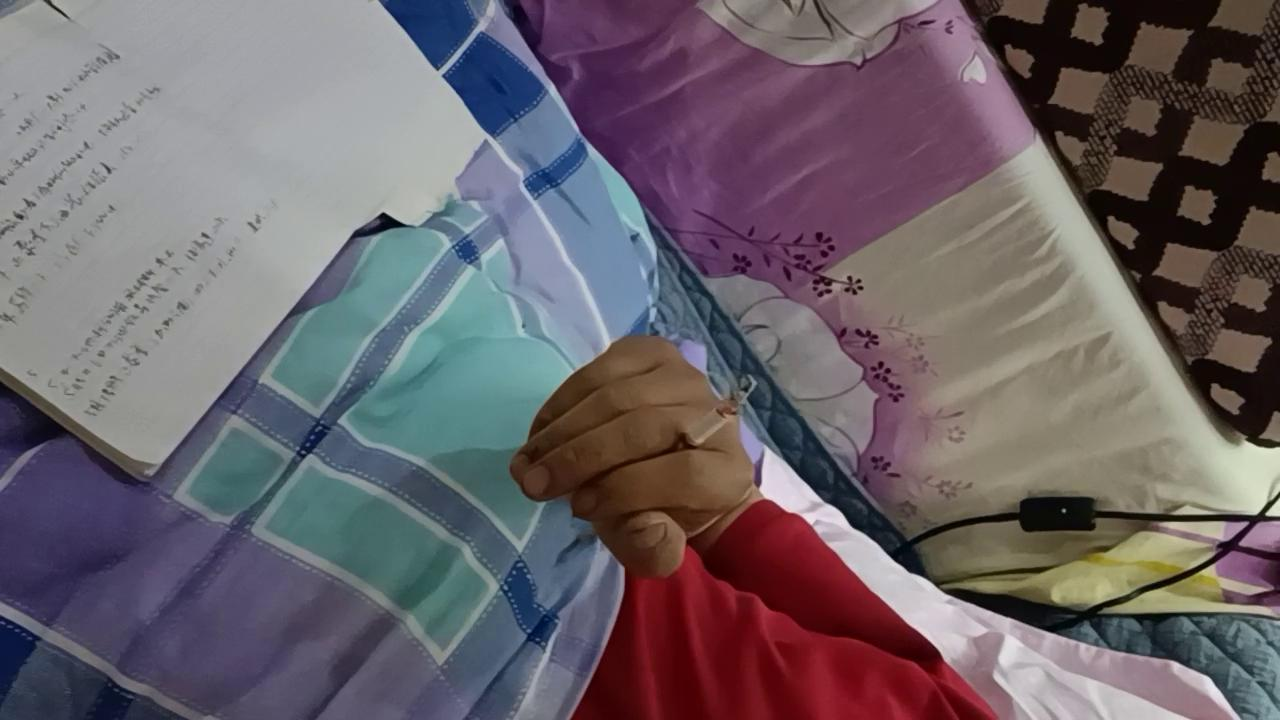smoke: (661, 375, 759, 459)
